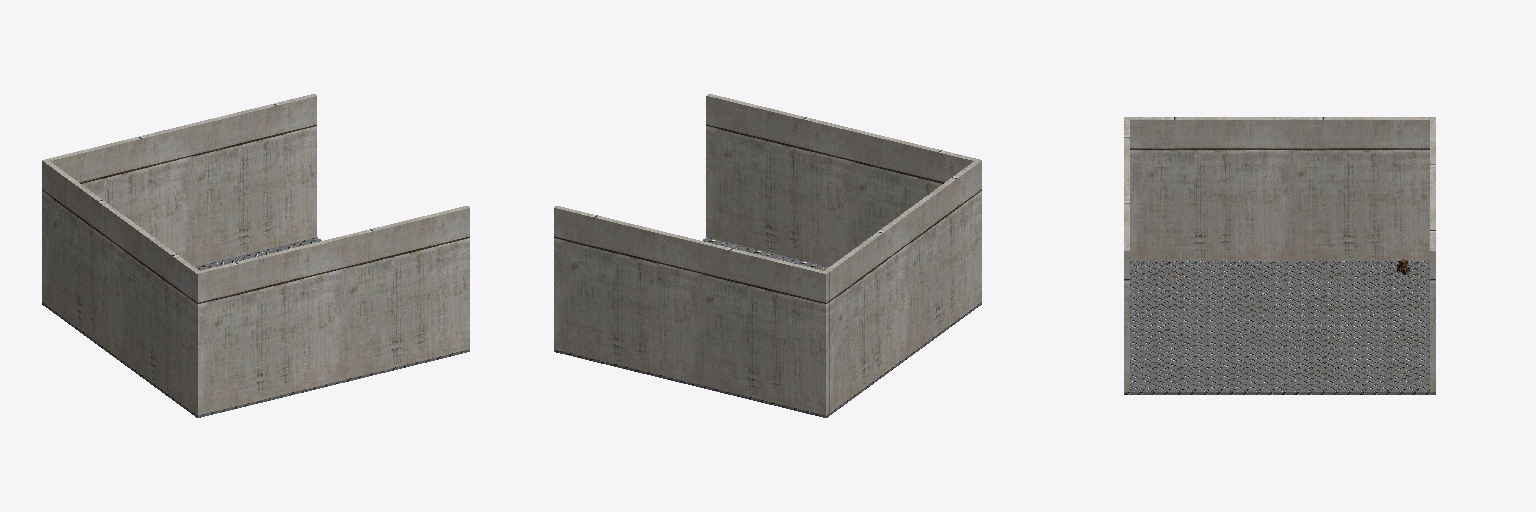
3 renders of one model, left to right at view 1: azimuth 30°, elevation 25°; view 2: azimuth 150°, elevation 25°; view 3: azimuth 270°, elevation 25°, orthographic.
Visible parts, largest first — view 1: Box09, Box04, Box02, Box01; view 2: Box04, Box09, Box02, Box01; view 3: Box02, Box01, Box04, Box09.
Part boxes in pixels (x1,y1,x2,y2): Box09: (194, 206, 469, 415); Box04: (42, 94, 316, 303); Box02: (45, 161, 198, 412); Box01: (42, 237, 469, 417); Box04: (554, 206, 828, 415); Box09: (706, 94, 981, 303); Box02: (825, 161, 978, 412); Box01: (554, 237, 981, 417); Box02: (1130, 117, 1429, 260); Box01: (1124, 261, 1435, 394); Box04: (1430, 117, 1435, 391); Box09: (1124, 117, 1129, 391).
Bounding box in the file's own units: 20.4 × 10.29 × 20.19.
7 materials, 3 textured.